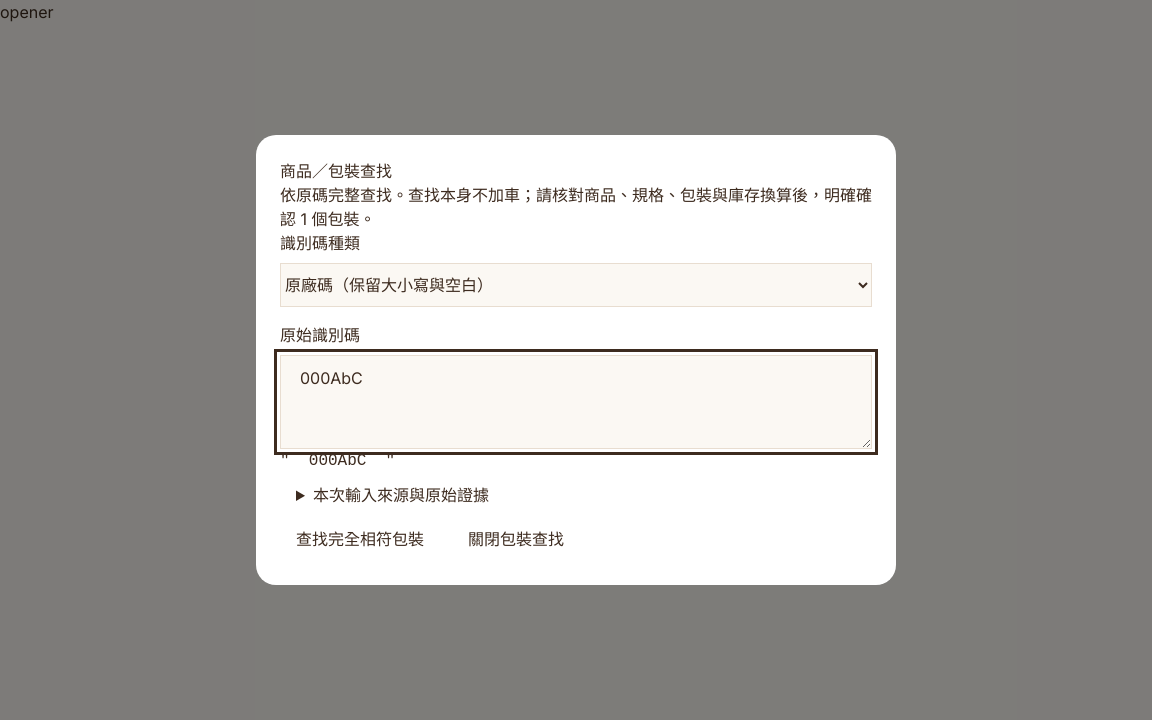
Test: package lookup POS confirmation dialog › keeps scanned literal exact, defaults to manufacturer namespace, and has no cart effect before explicit confirmation
The width and height of the screenshot is (1152, 720).
Expected: the dropdown labelled "識別碼種類" shows "原廠碼（保留大小寫與空白）", left=280, top=263, right=872, bottom=307
Expected: the text box labelled "原始識別碼" holds "  000AbC  ", left=280, top=355, right=872, bottom=449
Click the button "查找完全相符包裝": (360, 539) left=280, top=517, right=440, bottom=561
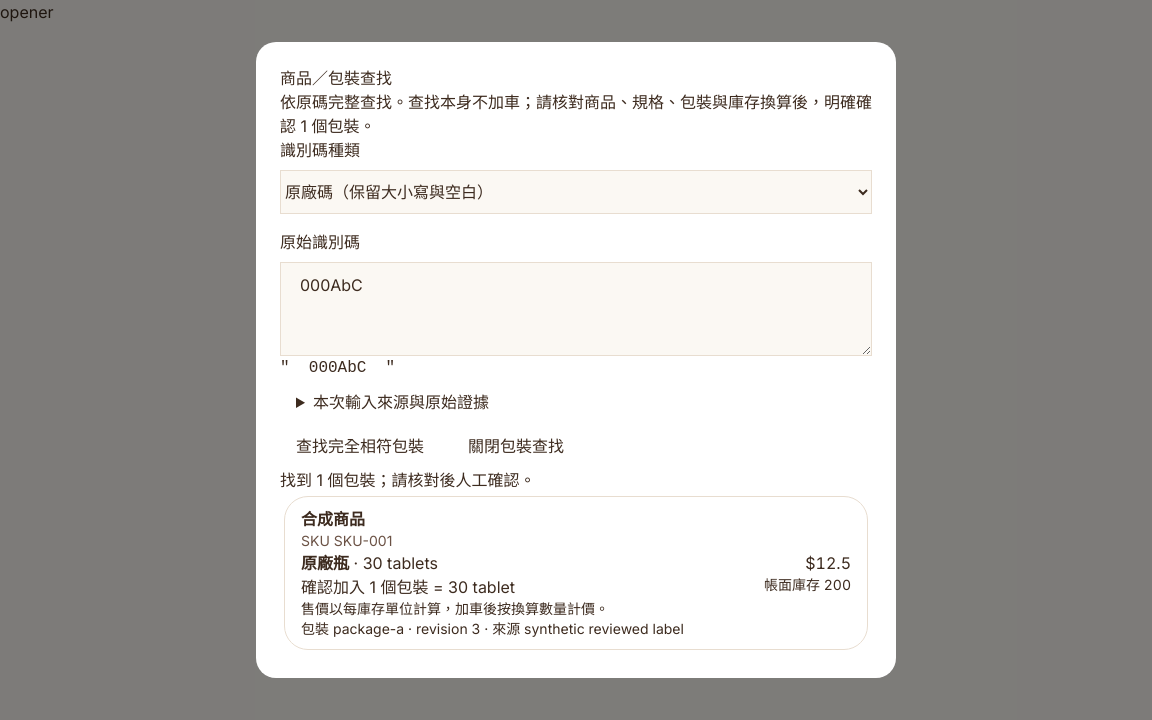
Now the button "原廠瓶" is enabled, box left=284, top=496, right=868, bottom=650
Now the message shows "人工確認", box left=280, top=470, right=536, bottom=490
